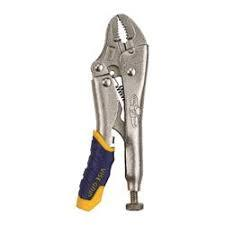pliers: (74, 12, 149, 212)
